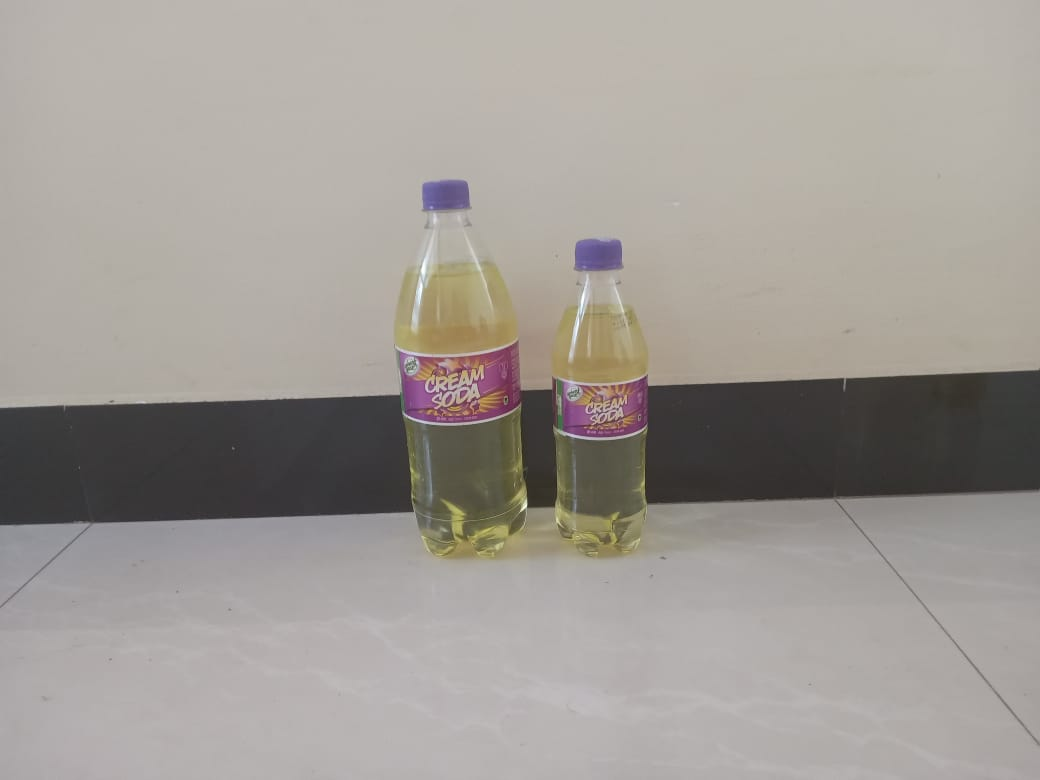M: (388, 180, 531, 559)
S: (548, 237, 648, 561)
